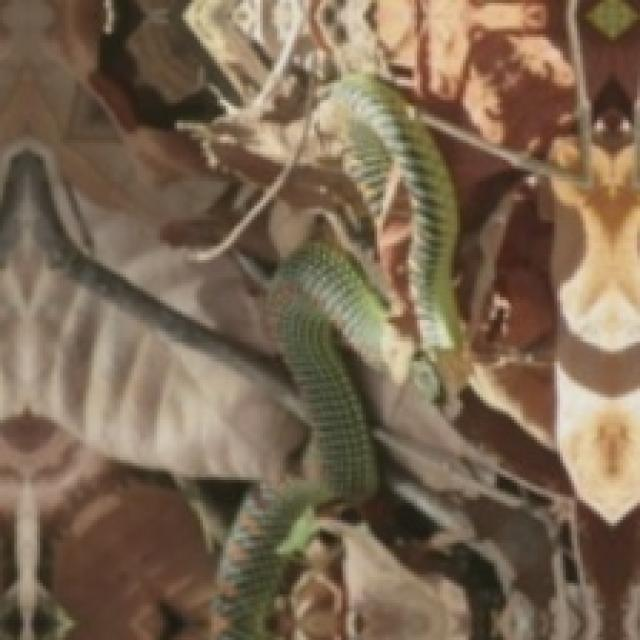paradise tree snake: (197, 74, 460, 500), (220, 486, 311, 637)
